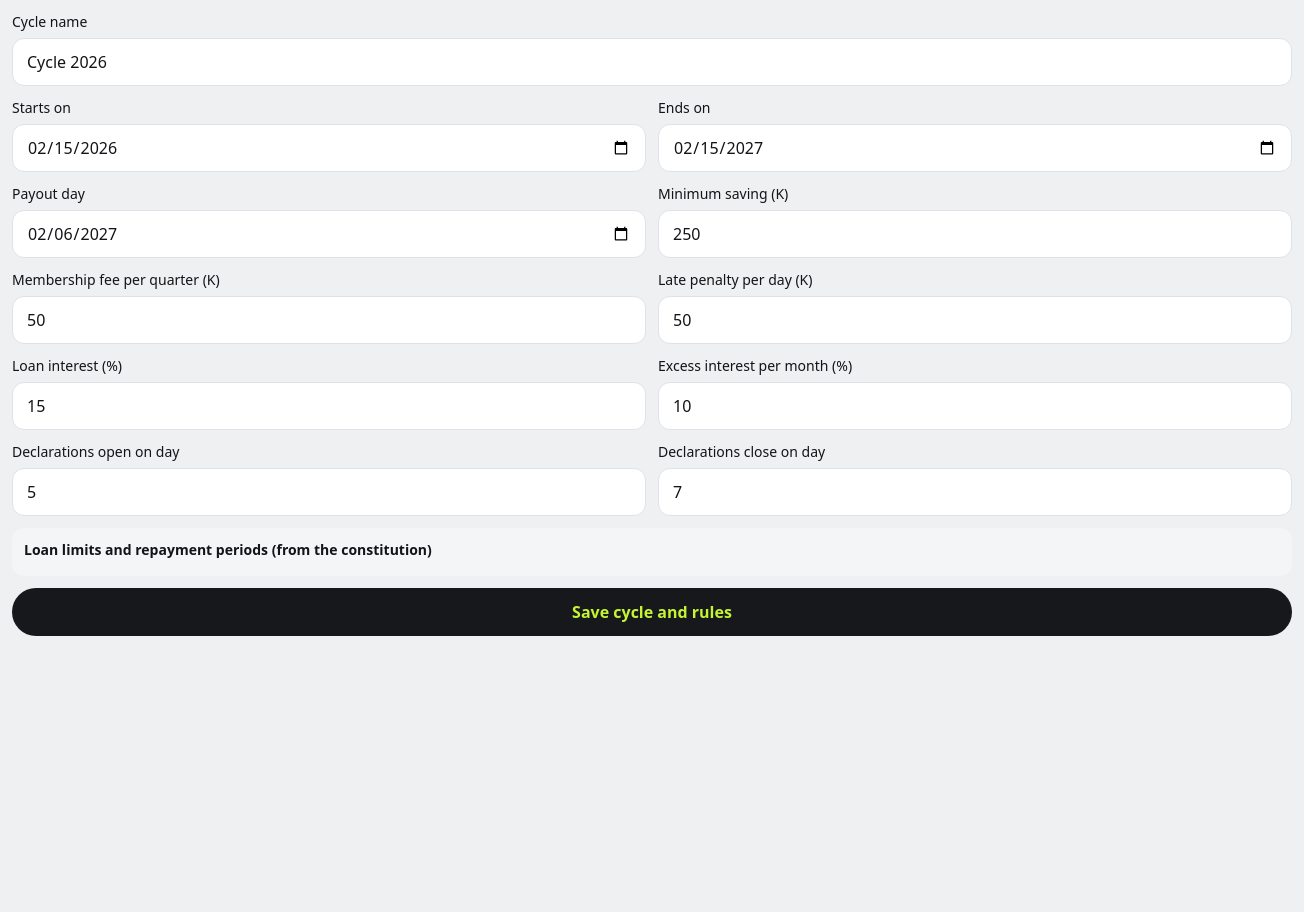
a cycle update that RLS filtered out (zero rows) shows the locked sentence, not "saved"
What coordinates should you click on to do the following:
click the button "Save cycle and rules"
I would click on:
 (652, 612)
Its box is [12,588,1292,636].
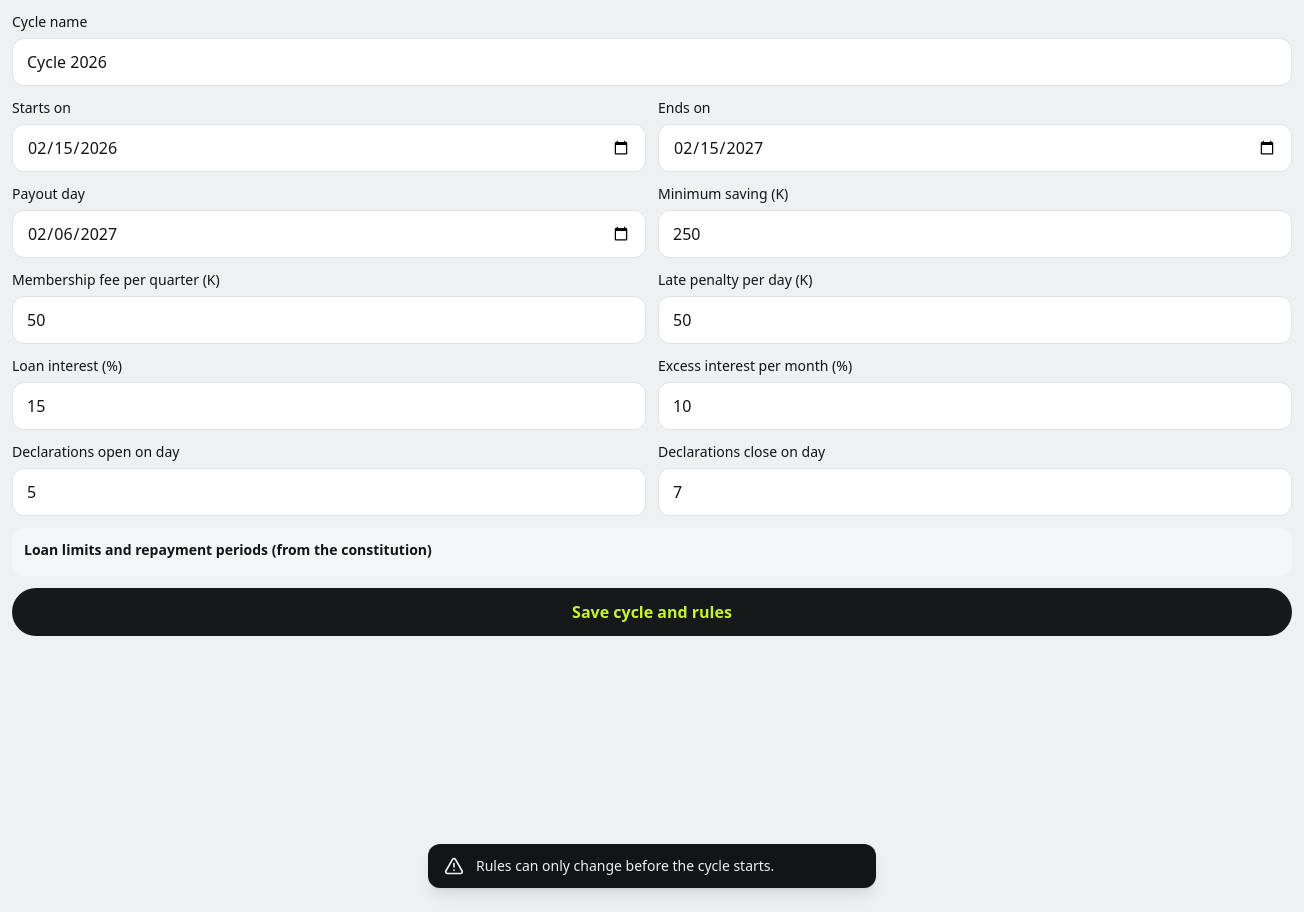
Check: the text "Rules can only change before the cycle starts." is shown, box [476,856,774,875]
